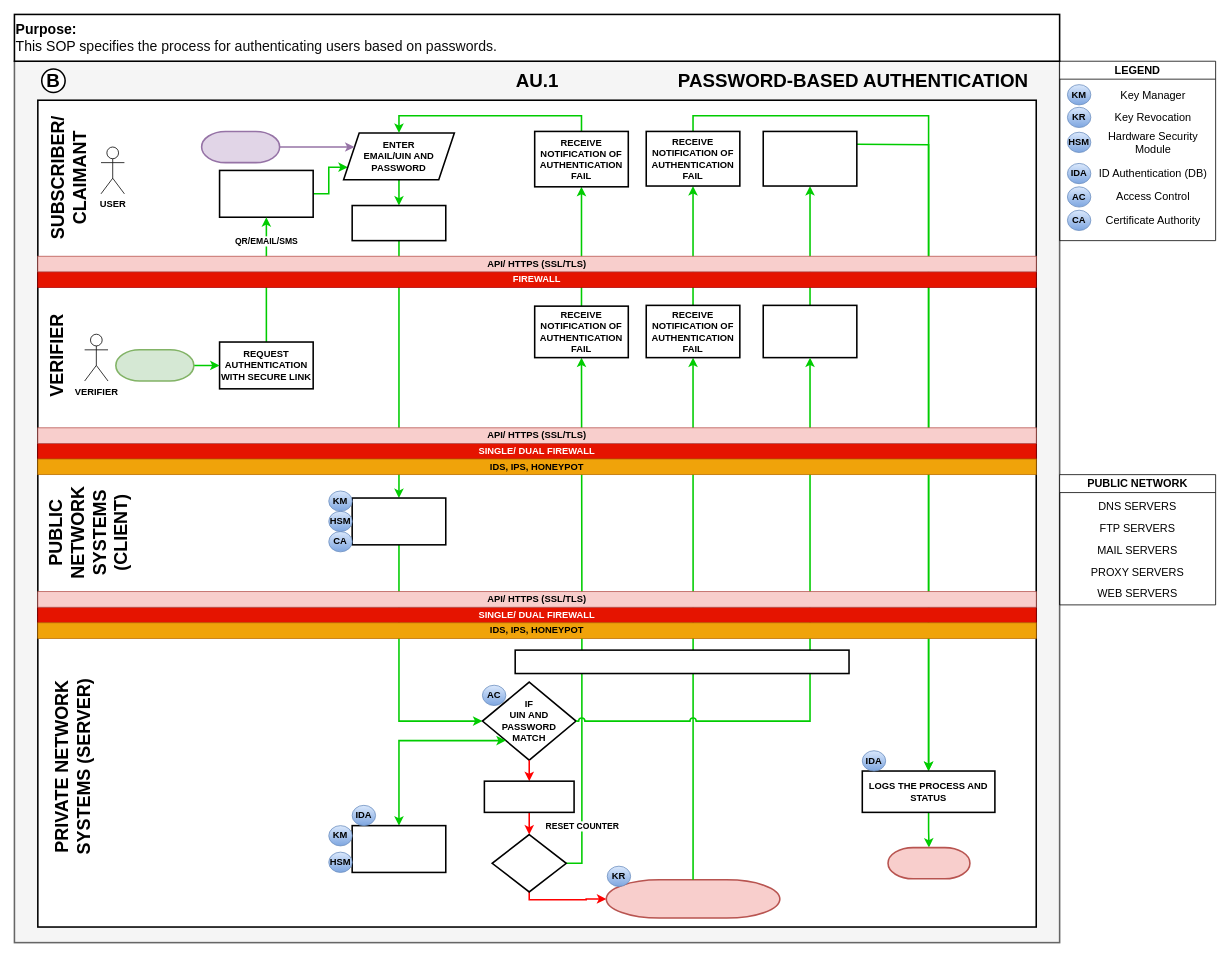
Image size: 1229x956. Some labels were removed from this diagram. Here are the shapes that lost their labels. From the top down, the centre of each, then its label:
At (240,146): "CONTINUE: AUTH.".
At (809,158): "RECEIVES NOTIFICATION OF AUTHENTICATION SUCCESS".
At (266,193): "CLICKS SECURE LINk TO DID AUTHENTICATOR".
At (398,222): "CLICK SUBMIT".
At (809,331): "RECEIVE NOTIFICATION OF AUTHENTICATION SUCCESS".
At (154,365): "START (ONLINE)".
At (398,521): "MASK & ENCRYPT EMAIL/UIN AND PASSWORD FOR AUTHENTICATION".
At (681,661): "NOTIFICATION GENERATOR".
At (528,796): "EXCEPTION AND ERROR HANDLING (COUNTER)".
At (398,848): "DID DATABASE: UIN ACCOUNT".
At (529,862): "IF RETRY COUNT < = 3".
At (928,862): "END".
At (692,898): "TERMINATE PROCESS: AFTER 3 RETRY".
